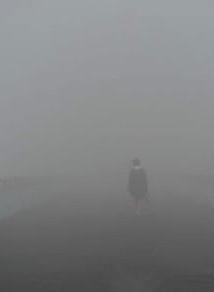person: (128, 157, 148, 216)
